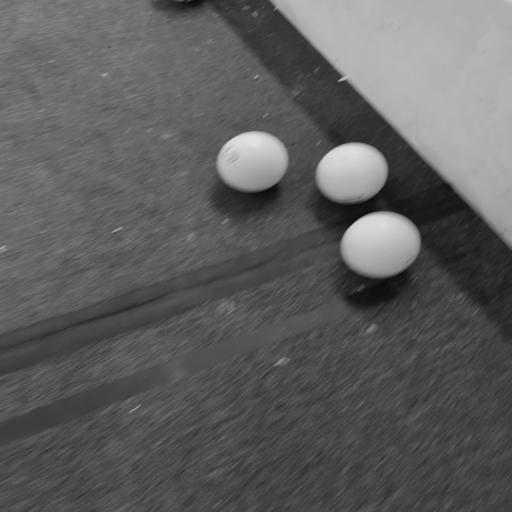fuel: (341, 212, 420, 278), (316, 143, 388, 204), (217, 132, 288, 193)
